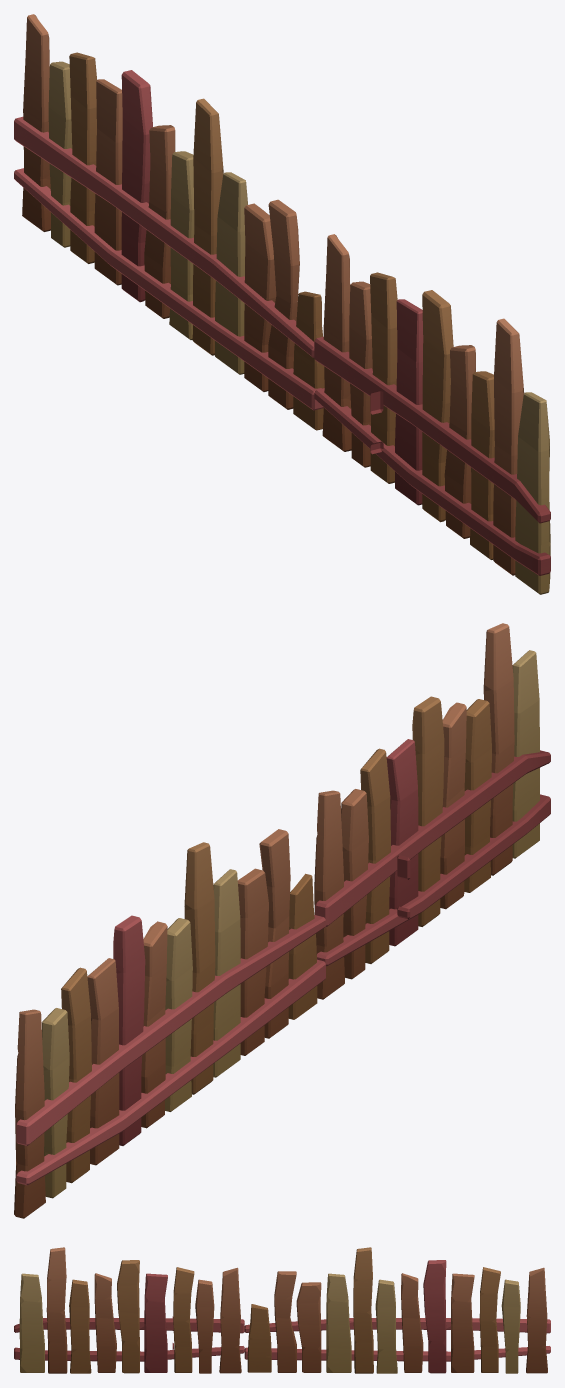
Rendered from pagar7.fbx.
3 views of the same model, one above another, from view 1: azimuth 30°, elevation 25°; view 2: azimuth 150°, elevation 25°; view 3: azimuth 270°, elevation 25° (orthographic). The views are drawn at different scales.
Parts seen in each view (by area): view 1: Pagar fix.007; view 2: Pagar fix.007; view 3: Pagar fix.007.
Boxes of the visible parts, left/top/right/bottom form: Pagar fix.007: left=14, top=14, right=550, bottom=594; Pagar fix.007: left=14, top=623, right=550, bottom=1218; Pagar fix.007: left=14, top=1247, right=550, bottom=1373.
Bounding box in the file's own units: 25.8 × 188 × 733.
Materials: 1 (1 with a texture image).
